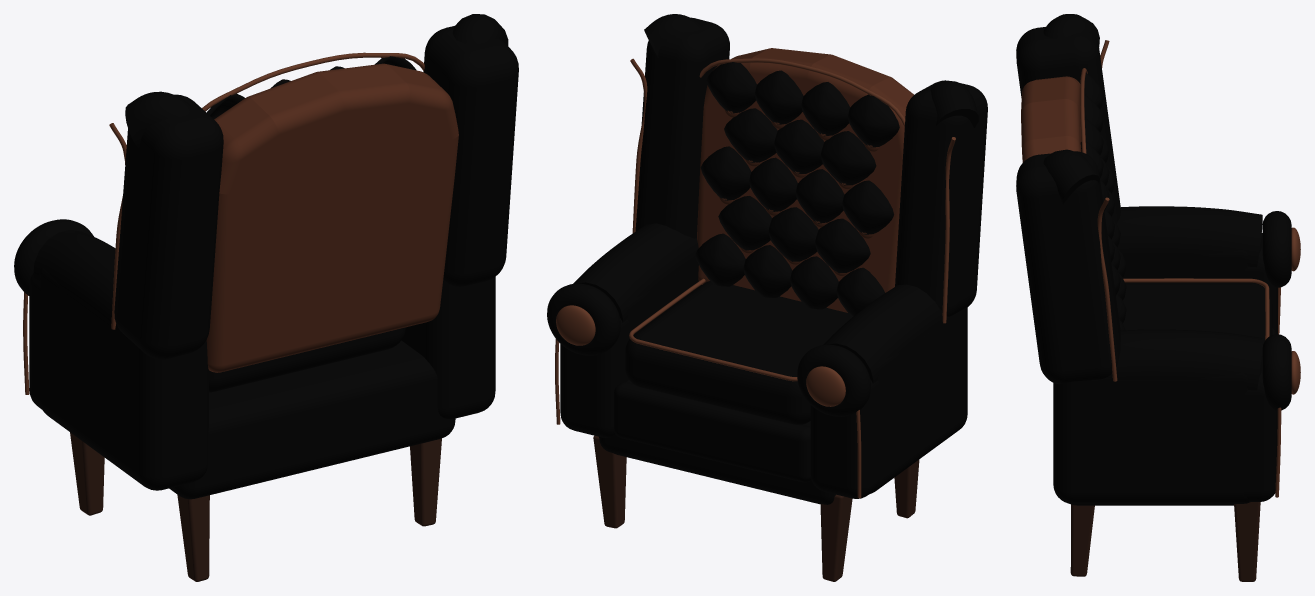
File: leather-armchair.glb
3 renders of one model, left to right at view 1: azimuth 30°, elevation 25°; view 2: azimuth 150°, elevation 25°; view 3: azimuth 270°, elevation 25°, orthographic. The views are drawn at different scales.
Parts seen in each view (by area): view 1: TuftedBack_Underlay, UpholsteredBase, ArmSideBody_L, WingPanel_L, WingPanel_R, ArmSideBody_R, ArmRoll_L, SeatCushion, RearLeg_L, RearLeg_R, FrontLeg_L, WingOuterRoll_L (+5 smaller); view 2: SeatCushion, WingPanel_L, TuftedBack_Underlay, WingPanel_R, FrontRailSoftPanel, ArmSideBody_L, ArmFrontUpright_L, ArmRoll_R, ArmRoll_L, ArmFrontUpright_R, UpholsteredBase, ArmFrontScroll_L (+31 smaller); view 3: ArmSideBody_R, WingPanel_R, SeatCushion, ArmRoll_R, ArmRoll_L, WingPanel_L, TuftedBack_Underlay, ArmFrontUpright_R, ArmSideBody_L, ArmFrontScroll_L, ArmFrontScroll_R, FrontLeg_R (+13 smaller).
Part boxes in pixels (x1,y1,x2,y2): TuftedBack_Underlay: (206, 63, 458, 372); UpholsteredBase: (169, 340, 455, 499); ArmSideBody_L: (39, 268, 208, 490); WingPanel_L: (114, 94, 223, 359); WingPanel_R: (423, 26, 518, 286); ArmSideBody_R: (401, 277, 495, 418); ArmRoll_L: (33, 230, 123, 335); SeatCushion: (209, 327, 405, 392); RearLeg_L: (177, 495, 209, 581); RearLeg_R: (410, 438, 441, 526); FrontLeg_L: (70, 432, 104, 515); WingOuterRoll_L: (125, 91, 191, 148); SeatCushion: (625, 281, 852, 424); WingPanel_L: (895, 80, 987, 316); TuftedBack_Underlay: (697, 48, 913, 312); WingPanel_R: (635, 17, 729, 238); FrontRailSoftPanel: (614, 382, 811, 482); ArmSideBody_L: (869, 307, 967, 494); ArmFrontUpright_L: (810, 379, 884, 498); ArmRoll_R: (573, 223, 698, 322); ArmRoll_L: (823, 284, 952, 383); ArmFrontUpright_R: (560, 318, 634, 437); UpholsteredBase: (599, 380, 835, 504); ArmFrontScroll_L: (797, 344, 870, 416); ArmSideBody_R: (1053, 359, 1261, 503); WingPanel_R: (1016, 151, 1120, 384); SeatCushion: (1123, 282, 1272, 356); ArmRoll_R: (1098, 329, 1262, 390); ArmRoll_L: (1117, 206, 1262, 267); WingPanel_L: (1016, 27, 1120, 223); TuftedBack_Underlay: (1021, 76, 1081, 162); ArmFrontUpright_R: (1235, 356, 1277, 501); ArmSideBody_L: (1123, 236, 1261, 278); ArmFrontScroll_L: (1262, 211, 1291, 287); ArmFrontScroll_R: (1262, 334, 1291, 410); FrontLeg_R: (1234, 502, 1260, 581).
Bounding box in the file's own units: 1.14 × 1.44 × 0.8392.
Materials: 4 (1 with a texture image).
